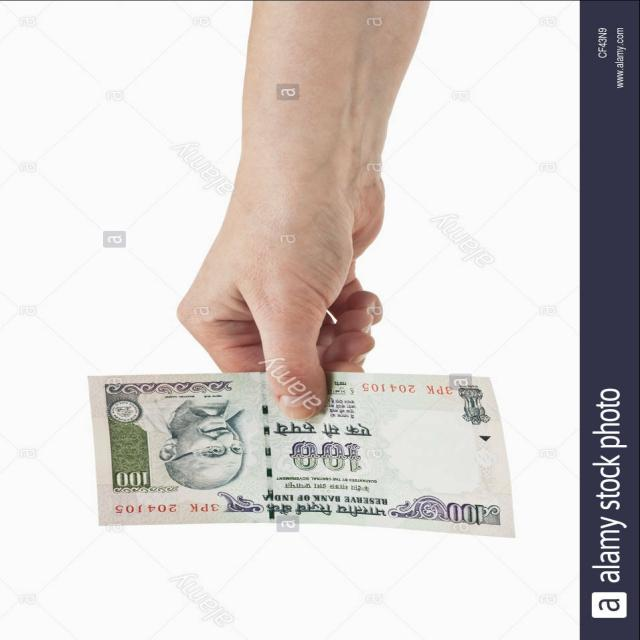100IndianRupees: (89, 371, 509, 527)
